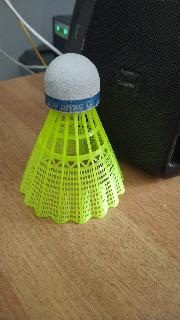shuttlecock: (19, 54, 123, 222)
